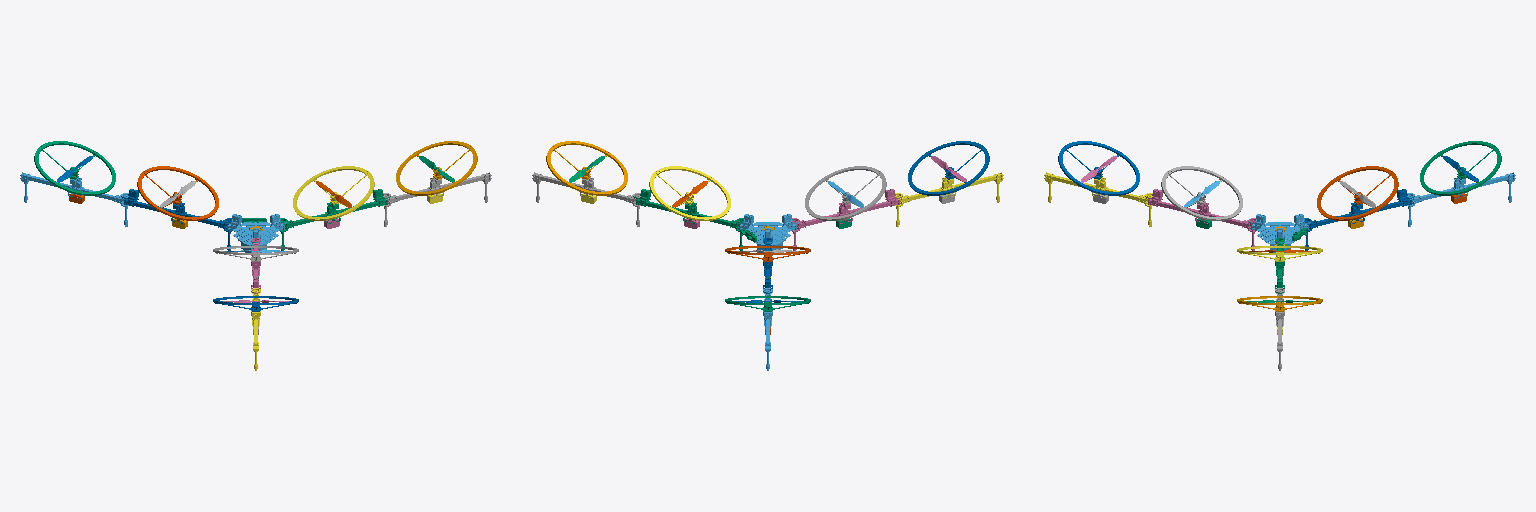
--- Facts derived from the render (not from the file) ---
3 views of the same robot in one strip: view 1: azimuth 30°, elevation 25°; view 2: azimuth 150°, elevation 25°; view 3: azimuth 270°, elevation 25° (orthographic).
Model hydrus_xi with 36 links and 35 joints (6 revolute, 12 continuous, 17 fixed), rooted at root, posed all joints at 0.
Visible links, largest first — view 1: center_link, gimbal_link3, gimbal_link2, gimbal_link1, gimbal_link4, link1, link3, link4, link2, gimbal_link6, gimbal_link5; view 2: center_link, gimbal_link1, gimbal_link6, gimbal_link5, gimbal_link2, link5, link1, link2, link6, gimbal_link4, gimbal_link3; view 3: center_link, gimbal_link5, gimbal_link4, gimbal_link3, gimbal_link6, link5, link3, link6, link4, gimbal_link2, gimbal_link1.
Link boxes in pixels (left/top/right/bottom): center_link: left=224, top=214, right=287, bottom=243; gimbal_link3: left=137, top=166, right=218, bottom=220; gimbal_link2: left=396, top=141, right=477, bottom=195; gimbal_link1: left=293, top=166, right=374, bottom=220; gimbal_link4: left=34, top=141, right=115, bottom=195; link1: left=280, top=189, right=390, bottom=250; link3: left=121, top=189, right=231, bottom=250; link4: left=20, top=172, right=128, bottom=226; link2: left=383, top=172, right=491, bottom=226; gimbal_link6: left=213, top=296, right=298, bottom=311; gimbal_link5: left=213, top=246, right=298, bottom=261; center_link: left=736, top=214, right=799, bottom=243; gimbal_link1: left=649, top=166, right=730, bottom=220; gimbal_link6: left=908, top=141, right=989, bottom=195; gimbal_link5: left=805, top=166, right=886, bottom=220; gimbal_link2: left=546, top=141, right=627, bottom=195; link5: left=792, top=189, right=902, bottom=250; link1: left=633, top=189, right=743, bottom=250; link2: left=532, top=172, right=640, bottom=226; link6: left=895, top=172, right=1003, bottom=226; gimbal_link4: left=725, top=296, right=810, bottom=311; gimbal_link3: left=725, top=246, right=810, bottom=261; center_link: left=1248, top=214, right=1311, bottom=243; gimbal_link5: left=1161, top=166, right=1242, bottom=220; gimbal_link4: left=1420, top=141, right=1501, bottom=195; gimbal_link3: left=1317, top=166, right=1398, bottom=220; gimbal_link6: left=1058, top=141, right=1139, bottom=195; link5: left=1145, top=189, right=1255, bottom=250; link3: left=1304, top=189, right=1414, bottom=250; link6: left=1044, top=172, right=1152, bottom=226; link4: left=1407, top=172, right=1515, bottom=226; gimbal_link2: left=1237, top=296, right=1322, bottom=311; gimbal_link1: left=1237, top=246, right=1322, bottom=261.
Bounding box of the posed robot: 2.1 × 2.37 × 0.3348 m (x, y, z).
29 mesh visuals loaded from 11 distinct referenced files (11 binary STL).

robot.urdf — hydrus_xi:
<?xml version="1.0" ?>
<robot name="hydrus_xi">
  <baselink name="fc"/>
  <thrust_link name="thrust"/>
  <m_f_rate value="-0.0182"/>
    #### dummy root link for KDL ####
  <link name="root">
    <inertial>
      <origin rpy="0 0 0" xyz="0 0 0"/>
      <mass value="0.00001"/>
      <inertia ixx="0.000001" ixy="0.0" ixz="0.0" iyy="0.000001" iyz="0.0" izz="0.000001"/>
    </inertial>
  </link>
  <joint name="root_joint" type="fixed">
    <parent link="root"/>
    <child link="center_link"/>
    <origin rpy="0 0 0" xyz="0 0 0"/>
    <axis xyz="0 0 1"/>
  </joint>
    #### link ####
  <link name="center_link">
    <inertial>
      <origin rpy="0 0 0" xyz="-0.000001 0.000000 0.031426"/>
      <mass value="0.970304"/>
      <inertia ixx="0.011445" ixy="-0.000000" ixz="-0.000000" iyy="0.011444" iyz="0.000000" izz="0.021712"/>
    </inertial>
    <visual>
      <origin rpy="0 0 0" xyz="0 0 0"/>
      <geometry>
        <mesh filename="center_link.stl"/>
      </geometry>
    </visual>
    <collision name="center_link">
      <origin rpy="0 0 0" xyz="0 0 0"/>
      <geometry>
        <mesh filename="center_link.stl"/>
      </geometry>
    </collision>
  </link>
  <gazebo reference="center_link">
    <dampingFactor>0.00</dampingFactor>
  </gazebo>
    #### joints ####
    #### link joint ####
  <joint name="joint1" type="revolute">
    <limit effort="6.6" lower="-1.57" upper="1.57" velocity="3.0"/>
    <parent link="center_link"/>
    <child link="link1"/>
    <origin rpy="0 0 0" xyz="0.1555 0.0 0.015"/>
    <axis xyz="0 0 1"/>
    <dynamics damping="0.8" friction="0.0"/>
  </joint>
  <joint name="joint3" type="revolute">
    <limit effort="6.6" lower="-1.57" upper="1.57" velocity="3.0"/>
    <parent link="center_link"/>
    <child link="link3"/>
    <origin rpy="0 0 2.0943951023931953" xyz="-0.07775 0.13467 0.015"/>
    <axis xyz="0 0 1"/>
    <dynamics damping="0.8" friction="0.0"/>
  </joint>
  <joint name="joint5" type="revolute">
    <limit effort="6.6" lower="-1.57" upper="1.57" velocity="3.0"/>
    <parent link="center_link"/>
    <child link="link5"/>
    <origin rpy="0 0 4.1887902047863905" xyz="-0.07775 -0.13467 0.015"/>
    <axis xyz="0 0 1"/>
    <dynamics damping="0.8" friction="0.0"/>
  </joint>
    #### hardware interface ####
  <gazebo reference="linkcenter_link">
    <mu1>0.1</mu1>
    <mu2>0.1</mu2>
  </gazebo>
    #### link ####
  <link name="link1">
    <inertial>
      <origin rpy="0 0 0" xyz="0.313051 0.000071 0.011024"/>
      <mass value="0.535052"/>
      <inertia ixx="0.000808" ixy="0.000030" ixz="0.005073" iyy="0.014148" iyz="0.000002" izz="0.013428"/>
    </inertial>
    <visual>
      <origin rpy="0 0 3.141592653589793" xyz="0.6 0 0"/>
      <geometry>
        <mesh filename="middle_link.stl"/>
      </geometry>
    </visual>
    <collision name="link1">
      <origin rpy="0 0 3.141592653589793" xyz="0.6 0 0"/>
      <geometry>
        <mesh filename="middle_link.stl"/>
      </geometry>
    </collision>
  </link>
    #### link1 ####
  <gazebo reference="link1">
    <dampingFactor>0.00</dampingFactor>
  </gazebo>
    #### gimbal link ####
  <link name="gimbal_link1">
    <inertial>
      <origin rpy="0 0 0" xyz="-0.010664 0.000000 0.049923"/>
      <mass value="0.237140"/>
      <inertia ixx="0.004029" ixy="-0.000000" ixz="-0.001310" iyy="0.003369" iyz="0.000000" izz="0.006515"/>
    </inertial>
    <visual>
      <origin rpy="0 0 0" xyz="0 0 0"/>
      <geometry>
        <mesh filename="propeller_link.stl"/>
      </geometry>
    </visual>
    <collision name="gimbal_link1">
      <origin rpy="0 0 0" xyz="0 0 0"/>
      <geometry>
        <mesh filename="propeller_link.stl"/>
      </geometry>
    </collision>
  </link>
  <gazebo reference="gimbal_link1">
    <dampingFactor>0.00</dampingFactor>
  </gazebo>
    #### rotor parent link (virtual) ####
  <link name="rotor_parent1">
    <inertial>
      <origin rpy="0 0 0" xyz="0 0 0"/>
      <mass value="0.00001"/>
      <inertia ixx="0.000001" ixy="0.0" ixz="0.0" iyy="0.000001" iyz="0.0" izz="0.000001"/>
    </inertial>
  </link>
    #### thrust link (virtual) ####
  <link name="thrust1">
    <inertial>
      <origin rpy="0 0 0" xyz="0 0 0"/>
      <mass value="0.02"/>
      <inertia ixx="1.5841999999999998e-06" ixy="0.0" ixz="0.0" iyy="1.5841999999999998e-06" iyz="0.0" izz="3.1683999999999996e-06"/>
    </inertial>
    <visual>
      <origin rpy="0 0 0" xyz="0 0 0"/>
      <geometry>
        <mesh filename="T-motor-CF-14inch-CCW.stl"/>
      </geometry>
    </visual>
    <collision name="thrust1">
      <origin rpy="0 0 0" xyz="0 0 0"/>
      <geometry>
        <mesh filename="T-motor-CF-14inch-CCW.stl"/>
      </geometry>
    </collision>
  </link>
  <gazebo reference="thrust1">
    <dampingFactor>0.00</dampingFactor>
  </gazebo>
    #### joints ####
    #### link joint ####
  <joint name="joint2" type="revolute">
    <limit effort="6.6" lower="-1.5707963267948966" upper="1.5707963267948966" velocity="3.0"/>
    <parent link="link1"/>
    <child link="link2"/>
    <origin rpy="0 0 0" xyz="0.6 0 0"/>
    <axis xyz="0 0 1"/>
    <dynamics damping="0.8" friction="0.0"/>
  </joint>
    #### gimbal joint ####
  <joint name="gimbal1" type="continuous">
    <limit effort="3.1" lower="-18.84955592153876" upper="18.84955592153876" velocity="20.0"/>
    <parent link="link1"/>
    <child link="gimbal_link1"/>
    <origin rpy="0 0 3.141592653589793" xyz="0.2984 0 0.04867"/>
    <axis xyz="0 0 1"/>
    <dynamics damping="0.8" friction="0.0"/>
  </joint>
    #### rotor parent link joint (virtual) ####
  <joint name="rotor_parent_link_joint1" type="fixed">
    <parent link="gimbal_link1"/>
    <child link="rotor_parent1"/>
    <origin rpy="0 0.34906585039 0" xyz="0 0 0.06041"/>
    <axis xyz="0 0 1"/>
  </joint>
    #### rotor joint (virtual) ####
  <joint name="rotor1" type="continuous">
    <limit effort="100.0" lower="1" upper="35.5" velocity="0.5"/>
    <parent link="rotor_parent1"/>
    <child link="thrust1"/>
    <origin rpy="0 0 0" xyz="0 0 0"/>
    <axis xyz="0 0 1"/>
  </joint>
    #### battery ####
  <joint name="link12bat1" type="fixed">
    <parent link="link1"/>
    <child link="bat1"/>
    <origin rpy="0 0 1.5707963267948966" xyz="0.2867 0.0 -0.048"/>
  </joint>
  <link name="bat1">
    <inertial>
      <origin rpy="0 0 0" xyz="0 0 0"/>
      <mass value="0.193"/>
      <inertia ixx="0.00001" ixy="0.0" ixz="0.0" iyy="0.00001" iyz="0.0" izz="0.00002"/>
    </inertial>
    <visual>
      <geometry>
        <mesh filename="battery.stl"/>
      </geometry>
    </visual>
    <collision name="bat1">
      <geometry>
        <mesh filename="battery.stl"/>
      </geometry>
    </collision>
  </link>
    #### hardware interface ####
  <gazebo reference="link1">
    <mu1>0.1</mu1>
    <mu2>0.1</mu2>
  </gazebo>
    #### link ####
  <link name="link2">
    <inertial>
      <origin rpy="0 0 0" xyz="0.272827 0.000033 -0.006011"/>
      <mass value="0.455151"/>
      <inertia ixx="0.001020" ixy="0.000009" ixz="-0.002418" iyy="0.009477" iyz="0.000000" izz="0.008530"/>
    </inertial>
    <visual>
      <origin rpy="0 0 3.141592653589793" xyz="0.6 0 0"/>
      <geometry>
        <mesh filename="end_link1.stl"/>
      </geometry>
    </visual>
    <collision name="link2">
      <origin rpy="0 0 3.141592653589793" xyz="0.6 0 0"/>
      <geometry>
        <mesh filename="end_link1.stl"/>
      </geometry>
    </collision>
  </link>
    #### link2 ####
  <gazebo reference="link2">
    <dampingFactor>0.00</dampingFactor>
  </gazebo>
    #### gimbal link ####
  <link name="gimbal_link2">
    <inertial>
      <origin rpy="0 0 0" xyz="-0.010664 0.000000 0.049923"/>
      <mass value="0.237140"/>
      <inertia ixx="0.004029" ixy="-0.000000" ixz="-0.001310" iyy="0.003369" iyz="0.000000" izz="0.006515"/>
    </inertial>
    <visual>
      <origin rpy="0 0 0" xyz="0 0 0"/>
      <geometry>
        <mesh filename="propeller_link.stl"/>
      </geometry>
    </visual>
    <collision name="gimbal_link2">
      <origin rpy="0 0 0" xyz="0 0 0"/>
      <geometry>
        <mesh filename="propeller_link.stl"/>
      </geometry>
    </collision>
  </link>
  <gazebo reference="gimbal_link2">
    <dampingFactor>0.00</dampingFactor>
  </gazebo>
    #### rotor parent link (virtual) ####
  <link name="rotor_parent2">
    <inertial>
      <origin rpy="0 0 0" xyz="0 0 0"/>
      <mass value="0.00001"/>
      <inertia ixx="0.000001" ixy="0.0" ixz="0.0" iyy="0.000001" iyz="0.0" izz="0.000001"/>
    </inertial>
  </link>
    #### thrust link (virtual) ####
  <link name="thrust2">
    <inertial>
      <origin rpy="0 0 0" xyz="0 0 0"/>
      <mass value="0.02"/>
      <inertia ixx="1.5841999999999998e-06" ixy="0.0" ixz="0.0" iyy="1.5841999999999998e-06" iyz="0.0" izz="3.1683999999999996e-06"/>
    </inertial>
    <visual>
      <origin rpy="0 0 0" xyz="0 0 0"/>
      <geometry>
        <mesh filename="T-motor-CF-14inch-CW.stl"/>
      </geometry>
    </visual>
    <collision name="thrust2">
      <origin rpy="0 0 0" xyz="0 0 0"/>
      <geometry>
        <mesh filename="T-motor-CF-14inch-CW.stl"/>
      </geometry>
    </collision>
  </link>
  <gazebo reference="thrust2">
    <dampingFactor>0.00</dampingFactor>
  </gazebo>
    #### joints ####
    #### link joint ####
    #### gimbal joint ####
  <joint name="gimbal2" type="continuous">
    <limit effort="3.1" lower="-18.84955592153876" upper="18.84955592153876" velocity="20.0"/>
    <parent link="link2"/>
    <child link="gimbal_link2"/>
    <origin rpy="0 0 3.141592653589793" xyz="0.2984 0 0.04867"/>
    <axis xyz="0 0 1"/>
    <dynamics damping="0.8" friction="0.0"/>
  </joint>
    #### rotor parent link joint (virtual) ####
  <joint name="rotor_parent_link_joint2" type="fixed">
    <parent link="gimbal_link2"/>
    <child link="rotor_parent2"/>
    <origin rpy="0 0.34906585039 0" xyz="0 0 0.06041"/>
    <axis xyz="0 0 -1"/>
  </joint>
    #### rotor joint (virtual) ####
  <joint name="rotor2" type="continuous">
    <limit effort="100.0" lower="1" upper="35.5" velocity="0.5"/>
    <parent link="rotor_parent2"/>
    <child link="thrust2"/>
    <origin rpy="0 0 0" xyz="0 0 0"/>
    <axis xyz="0 0 -1"/>
  </joint>
    #### battery ####
  <joint name="link22bat2" type="fixed">
    <parent link="link2"/>
    <child link="bat2"/>
    <origin rpy="0 0 1.5707963267948966" xyz="0.2867 0.0 -0.048"/>
  </joint>
  <link name="bat2">
    <inertial>
      <origin rpy="0 0 0" xyz="0 0 0"/>
      <mass value="0.193"/>
      <inertia ixx="0.00001" ixy="0.0" ixz="0.0" iyy="0.00001" iyz="0.0" izz="0.00002"/>
    </inertial>
    <visual>
      <geometry>
        <mesh filename="battery.stl"/>
      </geometry>
    </visual>
    <collision name="bat2">
      <geometry>
        <mesh filename="battery.stl"/>
      </geometry>
    </collision>
  </link>
    #### hardware interface ####
  <gazebo reference="link2">
    <mu1>0.1</mu1>
    <mu2>0.1</mu2>
  </gazebo>
    #### link ####
  <link name="link3">
    <inertial>
      <origin rpy="0 0 0" xyz="0.313051 0.000071 0.011024"/>
      <mass value="0.535052"/>
      <inertia ixx="0.000808" ixy="0.000030" ixz="0.005073" iyy="0.014148" iyz="0.000002" izz="0.013428"/>
    </inertial>
    <visual>
      <origin rpy="0 0 3.141592653589793" xyz="0.6 0 0"/>
      <geometry>
        <mesh filename="middle_link.stl"/>
      </geometry>
    </visual>
    <collision name="link3">
      <origin rpy="0 0 3.141592653589793" xyz="0.6 0 0"/>
      <geometry>
        <mesh filename="middle_link.stl"/>
      </geometry>
    </collision>
  </link>
    #### link3 ####
  <gazebo reference="link3">
    <dampingFactor>0.00</dampingFactor>
  </gazebo>
    #### gimbal link ####
  <link name="gimbal_link3">
    <inertial>
      <origin rpy="0 0 0" xyz="-0.010664 0.000000 0.049923"/>
      <mass value="0.237140"/>
      <inertia ixx="0.004029" ixy="-0.000000" ixz="-0.001310" iyy="0.003369" iyz="0.000000" izz="0.006515"/>
    </inertial>
    <visual>
      <origin rpy="0 0 0" xyz="0 0 0"/>
      <geometry>
        <mesh filename="propeller_link.stl"/>
      </geometry>
    </visual>
    <collision name="gimbal_link3">
      <origin rpy="0 0 0" xyz="0 0 0"/>
      <geometry>
        <mesh filename="propeller_link.stl"/>
      </geometry>
    </collision>
  </link>
  <gazebo reference="gimbal_link3">
    <dampingFactor>0.00</dampingFactor>
  </gazebo>
    #### rotor parent link (virtual) ####
  <link name="rotor_parent3">
    <inertial>
      <origin rpy="0 0 0" xyz="0 0 0"/>
      <mass value="0.00001"/>
      <inertia ixx="0.000001" ixy="0.0" ixz="0.0" iyy="0.000001" iyz="0.0" izz="0.000001"/>
    </inertial>
  </link>
    #### thrust link (virtual) ####
  <link name="thrust3">
    <inertial>
      <origin rpy="0 0 0" xyz="0 0 0"/>
      <mass value="0.02"/>
      <inertia ixx="1.5841999999999998e-06" ixy="0.0" ixz="0.0" iyy="1.5841999999999998e-06" iyz="0.0" izz="3.1683999999999996e-06"/>
    </inertial>
    <visual>
      <origin rpy="0 0 0" xyz="0 0 0"/>
      <geometry>
        <mesh filename="T-motor-CF-14inch-CCW.stl"/>
      </geometry>
    </visual>
    <collision name="thrust3">
      <origin rpy="0 0 0" xyz="0 0 0"/>
      <geometry>
        <mesh filename="T-motor-CF-14inch-CCW.stl"/>
      </geometry>
    </collision>
  </link>
  <gazebo reference="thrust3">
    <dampingFactor>0.00</dampingFactor>
  </gazebo>
    #### joints ####
    #### link joint ####
  <joint name="joint4" type="revolute">
    <limit effort="6.6" lower="-1.5707963267948966" upper="1.5707963267948966" velocity="3.0"/>
    <parent link="link3"/>
    <child link="link4"/>
    <origin rpy="0 0 0" xyz="0.6 0 0"/>
    <axis xyz="0 0 1"/>
    <dynamics damping="0.8" friction="0.0"/>
  </joint>
    #### gimbal joint ####
  <joint name="gimbal3" type="continuous">
    <limit effort="3.1" lower="-18.84955592153876" upper="18.84955592153876" velocity="20.0"/>
    <parent link="link3"/>
    <child link="gimbal_link3"/>
    <origin rpy="0 0 3.141592653589793" xyz="0.2984 0 0.04867"/>
    <axis xyz="0 0 1"/>
    <dynamics damping="0.8" friction="0.0"/>
  </joint>
    #### rotor parent link joint (virtual) ####
  <joint name="rotor_parent_link_joint3" type="fixed">
    <parent link="gimbal_link3"/>
    <child link="rotor_parent3"/>
    <origin rpy="0 0.34906585039 0" xyz="0 0 0.06041"/>
    <axis xyz="0 0 1"/>
  </joint>
    #### rotor joint (virtual) ####
  <joint name="rotor3" type="continuous">
    <limit effort="100.0" lower="1" upper="35.5" velocity="0.5"/>
    <parent link="rotor_parent3"/>
    <child link="thrust3"/>
    <origin rpy="0 0 0" xyz="0 0 0"/>
    <axis xyz="0 0 1"/>
  </joint>
    #### battery ####
  <joint name="link32bat3" type="fixed">
    <parent link="link3"/>
    <child link="bat3"/>
    <origin rpy="0 0 1.5707963267948966" xyz="0.2867 0.0 -0.048"/>
  </joint>
  <link name="bat3">
    <inertial>
      <origin rpy="0 0 0" xyz="0 0 0"/>
      <mass value="0.193"/>
      <inertia ixx="0.00001" ixy="0.0" ixz="0.0" iyy="0.00001" iyz="0.0" izz="0.00002"/>
    </inertial>
    <visual>
      <geometry>
        <mesh filename="battery.stl"/>
      </geometry>
    </visual>
    <collision name="bat3">
      <geometry>
        <mesh filename="battery.stl"/>
      </geometry>
    </collision>
  </link>
    #### hardware interface ####
  <gazebo reference="link3">
    <mu1>0.1</mu1>
    <mu2>0.1</mu2>
  </gazebo>
    #### link ####
  <link name="link4">
    <inertial>
      <origin rpy="0 0 0" xyz="0.272827 0.000033 -0.006011"/>
      <mass value="0.455151"/>
      <inertia ixx="0.001020" ixy="0.000009" ixz="-0.002418" iyy="0.009477" iyz="0.000000" izz="0.008530"/>
    </inertial>
    <visual>
      <origin rpy="0 0 3.141592653589793" xyz="0.6 0 0"/>
      <geometry>
        <mesh filename="end_link1.stl"/>
      </geometry>
    </visual>
    <collision name="link4">
      <origin rpy="0 0 3.141592653589793" xyz="0.6 0 0"/>
      <geometry>
        <mesh filename="end_link1.stl"/>
      </geometry>
    </collision>
  </link>
    #### link4 ####
  <gazebo reference="link4">
    <dampingFactor>0.00</dampingFactor>
  </gazebo>
    #### gimbal link ####
  <link name="gimbal_link4">
    <inertial>
      <origin rpy="0 0 0" xyz="-0.010664 0.000000 0.049923"/>
      <mass value="0.237140"/>
      <inertia ixx="0.004029" ixy="-0.000000" ixz="-0.001310" iyy="0.003369" iyz="0.000000" izz="0.006515"/>
    </inertial>
    <visual>
      <origin rpy="0 0 0" xyz="0 0 0"/>
      <geometry>
        <mesh filename="propeller_link.stl"/>
      </geometry>
    </visual>
    <collision name="gimbal_link4">
      <origin rpy="0 0 0" xyz="0 0 0"/>
      <geometry>
        <mesh filename="propeller_link.stl"/>
      </geometry>
    </collision>
  </link>
  <gazebo reference="gimbal_link4">
    <dampingFactor>0.00</dampingFactor>
  </gazebo>
    #### rotor parent link (virtual) ####
  <link name="rotor_parent4">
    <inertial>
      <origin rpy="0 0 0" xyz="0 0 0"/>
      <mass value="0.00001"/>
      <inertia ixx="0.000001" ixy="0.0" ixz="0.0" iyy="0.000001" iyz="0.0" izz="0.000001"/>
    </inertial>
  </link>
    #### thrust link (virtual) ####
  <link name="thrust4">
    <inertial>
      <origin rpy="0 0 0" xyz="0 0 0"/>
      <mass value="0.02"/>
      <inertia ixx="1.5841999999999998e-06" ixy="0.0" ixz="0.0" iyy="1.5841999999999998e-06" iyz="0.0" izz="3.1683999999999996e-06"/>
    </inertial>
    <visual>
      <origin rpy="0 0 0" xyz="0 0 0"/>
      <geometry>
        <mesh filename="T-motor-CF-14inch-CW.stl"/>
      </geometry>
    </visual>
    <collision name="thrust4">
      <origin rpy="0 0 0" xyz="0 0 0"/>
      <geometry>
        <mesh filename="T-motor-CF-14inch-CW.stl"/>
      </geometry>
    </collision>
  </link>
  <gazebo reference="thrust4">
    <dampingFactor>0.00</dampingFactor>
  </gazebo>
    #### joints ####
    #### link joint ####
    #### gimbal joint ####
  <joint name="gimbal4" type="continuous">
    <limit effort="3.1" lower="-18.84955592153876" upper="18.84955592153876" velocity="20.0"/>
    <parent link="link4"/>
    <child link="gimbal_link4"/>
    <origin rpy="0 0 3.141592653589793" xyz="0.2984 0 0.04867"/>
    <axis xyz="0 0 1"/>
    <dynamics damping="0.8" friction="0.0"/>
  </joint>
    #### rotor parent link joint (virtual) ####
  <joint name="rotor_parent_link_joint4" type="fixed">
    <parent link="gimbal_link4"/>
    <child link="rotor_parent4"/>
    <origin rpy="0 0.34906585039 0" xyz="0 0 0.06041"/>
    <axis xyz="0 0 -1"/>
  </joint>
    #### rotor joint (virtual) ####
  <joint name="rotor4" type="continuous">
    <limit effort="100.0" lower="1" upper="35.5" velocity="0.5"/>
    <parent link="rotor_parent4"/>
    <child link="thrust4"/>
    <origin rpy="0 0 0" xyz="0 0 0"/>
    <axis xyz="0 0 -1"/>
  </joint>
    #### battery ####
  <joint name="link42bat4" type="fixed">
    <parent link="link4"/>
    <child link="bat4"/>
    <origin rpy="0 0 1.5707963267948966" xyz="0.2867 0.0 -0.048"/>
  </joint>
  <link name="bat4">
    <inertial>
      <origin rpy="0 0 0" xyz="0 0 0"/>
      <mass value="0.193"/>
      <inertia ixx="0.00001" ixy="0.0" ixz="0.0" iyy="0.00001" iyz="0.0" izz="0.00002"/>
    </inertial>
    <visual>
      <geometry>
        <mesh filename="battery.stl"/>
      </geometry>
    </visual>
    <collision name="bat4">
      <geometry>
        <mesh filename="battery.stl"/>
      </geometry>
    </collision>
  </link>
    #### hardware interface ####
  <gazebo reference="link4">
    <mu1>0.1</mu1>
    <mu2>0.1</mu2>
  </gazebo>
    #### link ####
  <link name="link5">
    <inertial>
      <origin rpy="0 0 0" xyz="0.313051 0.000071 0.011024"/>
      <mass value="0.535052"/>
      <inertia ixx="0.000808" ixy="0.000030" ixz="0.005073" iyy="0.014148" iyz="0.000002" izz="0.013428"/>
    </inertial>
    <visual>
      <origin rpy="0 0 3.141592653589793" xyz="0.6 0 0"/>
      <geometry>
        <mesh filename="middle_link.stl"/>
      </geometry>
    </visual>
    <collision name="link5">
      <origin rpy="0 0 3.141592653589793" xyz="0.6 0 0"/>
      <geometry>
        <mesh filename="middle_link.stl"/>
      </geometry>
    </collision>
  </link>
    #### link5 ####
  <gazebo reference="link5">
    <dampingFactor>0.00</dampingFactor>
  </gazebo>
    #### gimbal link ####
  <link name="gimbal_link5">
    <inertial>
      <origin rpy="0 0 0" xyz="-0.010664 0.000000 0.049923"/>
      <mass value="0.237140"/>
      <inertia ixx="0.004029" ixy="-0.000000" ixz="-0.001310" iyy="0.003369" iyz="0.000000" izz="0.006515"/>
    </inertial>
    <visual>
      <origin rpy="0 0 0" xyz="0 0 0"/>
      <geometry>
        <mesh filename="propeller_link.stl"/>
      </geometry>
    </visual>
    <collision name="gimbal_link5">
      <origin rpy="0 0 0" xyz="0 0 0"/>
      <geometry>
        <mesh filename="propeller_link.stl"/>
      </geometry>
    </collision>
  </link>
  <gazebo reference="gimbal_link5">
    <dampingFactor>0.00</dampingFactor>
  </gazebo>
    #### rotor parent link (virtual) ####
  <link name="rotor_parent5">
    <inertial>
      <origin rpy="0 0 0" xyz="0 0 0"/>
      <mass value="0.00001"/>
      <inertia ixx="0.000001" ixy="0.0" ixz="0.0" iyy="0.000001" iyz="0.0" izz="0.000001"/>
    </inertial>
  </link>
    #### thrust link (virtual) ####
  <link name="thrust5">
    <inertial>
      <origin rpy="0 0 0" xyz="0 0 0"/>
      <mass value="0.02"/>
      <inertia ixx="1.5841999999999998e-06" ixy="0.0" ixz="0.0" iyy="1.5841999999999998e-06" iyz="0.0" izz="3.1683999999999996e-06"/>
    </inertial>
    <visual>
      <origin rpy="0 0 0" xyz="0 0 0"/>
      <geometry>
        <mesh filename="T-motor-CF-14inch-CCW.stl"/>
      </geometry>
    </visual>
    <collision name="thrust5">
      <origin rpy="0 0 0" xyz="0 0 0"/>
      <geometry>
        <mesh filename="T-motor-CF-14inch-CCW.stl"/>
      </geometry>
    </collision>
  </link>
  <gazebo reference="thrust5">
    <dampingFactor>0.00</dampingFactor>
  </gazebo>
    #### joints ####
    #### link joint ####
  <joint name="joint6" type="revolute">
    <limit effort="6.6" lower="-1.5707963267948966" upper="1.5707963267948966" velocity="3.0"/>
    <parent link="link5"/>
    <child link="link6"/>
    <origin rpy="0 0 0" xyz="0.6 0 0"/>
    <axis xyz="0 0 1"/>
    <dynamics damping="0.8" friction="0.0"/>
  </joint>
    #### gimbal joint ####
  <joint name="gimbal5" type="continuous">
    <limit effort="3.1" lower="-18.84955592153876" upper="18.84955592153876" velocity="20.0"/>
    <parent link="link5"/>
    <child link="gimbal_link5"/>
    <origin rpy="0 0 3.141592653589793" xyz="0.2984 0 0.04867"/>
    <axis xyz="0 0 1"/>
    <dynamics damping="0.8" friction="0.0"/>
  </joint>
    #### rotor parent link joint (virtual) ####
  <joint name="rotor_parent_link_joint5" type="fixed">
    <parent link="gimbal_link5"/>
    <child link="rotor_parent5"/>
    <origin rpy="0 0.34906585039 0" xyz="0 0 0.06041"/>
    <axis xyz="0 0 1"/>
  </joint>
    #### rotor joint (virtual) ####
  <joint name="rotor5" type="continuous">
    <limit effort="100.0" lower="1" upper="35.5" velocity="0.5"/>
    <parent link="rotor_parent5"/>
    <child link="thrust5"/>
    <origin rpy="0 0 0" xyz="0 0 0"/>
    <axis xyz="0 0 1"/>
  </joint>
    #### battery ####
  <joint name="link52bat5" type="fixed">
    <parent link="link5"/>
    <child link="bat5"/>
    <origin rpy="0 0 1.5707963267948966" xyz="0.2867 0.0 -0.048"/>
  </joint>
  <link name="bat5">
    <inertial>
      <origin rpy="0 0 0" xyz="0 0 0"/>
      <mass value="0.193"/>
      <inertia ixx="0.00001" ixy="0.0" ixz="0.0" iyy="0.00001" iyz="0.0" izz="0.00002"/>
    </inertial>
    <visual>
      <geometry>
        <mesh filename="battery.stl"/>
      </geometry>
    </visual>
    <collision name="bat5">
      <geometry>
        <mesh filename="battery.stl"/>
      </geometry>
    </collision>
  </link>
    #### hardware interface ####
  <gazebo reference="link5">
    <mu1>0.1</mu1>
    <mu2>0.1</mu2>
  </gazebo>
    #### link ####
  <link name="link6">
    <inertial>
      <origin rpy="0 0 0" xyz="0.272827 0.000033 -0.006011"/>
      <mass value="0.455151"/>
      <inertia ixx="0.001020" ixy="0.000009" ixz="-0.002418" iyy="0.009477" iyz="0.000000" izz="0.008530"/>
    </inertial>
    <visual>
      <origin rpy="0 0 3.141592653589793" xyz="0.6 0 0"/>
      <geometry>
        <mesh filename="end_link1.stl"/>
      </geometry>
    </visual>
    <collision name="link6">
      <origin rpy="0 0 3.141592653589793" xyz="0.6 0 0"/>
      <geometry>
        <mesh filename="end_link1.stl"/>
      </geometry>
    </collision>
  </link>
    #### link6 ####
  <gazebo reference="link6">
    <dampingFactor>0.00</dampingFactor>
  </gazebo>
    #### gimbal link ####
  <link name="gimbal_link6">
    <inertial>
      <origin rpy="0 0 0" xyz="-0.010664 0.000000 0.049923"/>
      <mass value="0.237140"/>
      <inertia ixx="0.004029" ixy="-0.000000" ixz="-0.001310" iyy="0.003369" iyz="0.000000" izz="0.006515"/>
    </inertial>
    <visual>
      <origin rpy="0 0 0" xyz="0 0 0"/>
      <geometry>
        <mesh filename="propeller_link.stl"/>
      </geometry>
    </visual>
    <collision name="gimbal_link6">
      <origin rpy="0 0 0" xyz="0 0 0"/>
      <geometry>
        <mesh filename="propeller_link.stl"/>
      </geometry>
    </collision>
  </link>
  <gazebo reference="gimbal_link6">
    <dampingFactor>0.00</dampingFactor>
  </gazebo>
    #### rotor parent link (virtual) ####
  <link name="rotor_parent6">
    <inertial>
      <origin rpy="0 0 0" xyz="0 0 0"/>
      <mass value="0.00001"/>
      <inertia ixx="0.000001" ixy="0.0" ixz="0.0" iyy="0.000001" iyz="0.0" izz="0.000001"/>
    </inertial>
  </link>
    #### thrust link (virtual) ####
  <link name="thrust6">
    <inertial>
      <origin rpy="0 0 0" xyz="0 0 0"/>
      <mass value="0.02"/>
      <inertia ixx="1.5841999999999998e-06" ixy="0.0" ixz="0.0" iyy="1.5841999999999998e-06" iyz="0.0" izz="3.1683999999999996e-06"/>
    </inertial>
    <visual>
      <origin rpy="0 0 0" xyz="0 0 0"/>
      <geometry>
        <mesh filename="T-motor-CF-14inch-CW.stl"/>
      </geometry>
    </visual>
    <collision name="thrust6">
      <origin rpy="0 0 0" xyz="0 0 0"/>
      <geometry>
        <mesh filename="T-motor-CF-14inch-CW.stl"/>
      </geometry>
    </collision>
  </link>
  <gazebo reference="thrust6">
    <dampingFactor>0.00</dampingFactor>
  </gazebo>
    #### joints ####
    #### link joint ####
    #### gimbal joint ####
  <joint name="gimbal6" type="continuous">
    <limit effort="3.1" lower="-18.84955592153876" upper="18.84955592153876" velocity="20.0"/>
    <parent link="link6"/>
    <child link="gimbal_link6"/>
    <origin rpy="0 0 3.141592653589793" xyz="0.2984 0 0.04867"/>
    <axis xyz="0 0 1"/>
    <dynamics damping="0.8" friction="0.0"/>
  </joint>
    #### rotor parent link joint (virtual) ####
  <joint name="rotor_parent_link_joint6" type="fixed">
    <parent link="gimbal_link6"/>
    <child link="rotor_parent6"/>
    <origin rpy="0 0.34906585039 0" xyz="0 0 0.06041"/>
    <axis xyz="0 0 -1"/>
  </joint>
    #### rotor joint (virtual) ####
  <joint name="rotor6" type="continuous">
    <limit effort="100.0" lower="1" upper="35.5" velocity="0.5"/>
    <parent link="rotor_parent6"/>
    <child link="thrust6"/>
    <origin rpy="0 0 0" xyz="0 0 0"/>
    <axis xyz="0 0 -1"/>
  </joint>
    #### battery ####
  <joint name="link62bat6" type="fixed">
    <parent link="link6"/>
    <child link="bat6"/>
    <origin rpy="0 0 1.5707963267948966" xyz="0.2867 0.0 -0.048"/>
  </joint>
  <link name="bat6">
    <inertial>
      <origin rpy="0 0 0" xyz="0 0 0"/>
      <mass value="0.193"/>
      <inertia ixx="0.00001" ixy="0.0" ixz="0.0" iyy="0.00001" iyz="0.0" izz="0.00002"/>
    </inertial>
    <visual>
      <geometry>
        <mesh filename="battery.stl"/>
      </geometry>
    </visual>
    <collision name="bat6">
      <geometry>
        <mesh filename="battery.stl"/>
      </geometry>
    </collision>
  </link>
    #### hardware interface ####
  <gazebo reference="link6">
    <mu1>0.1</mu1>
    <mu2>0.1</mu2>
  </gazebo>
  #### flight controller ####
  <joint name="center_link2fc" type="fixed">
    <parent link="center_link"/>
    <child link="fc"/>
    <origin rpy="0 0 0" xyz="-0.0129 -0.0044 0.03933"/>
  </joint>
  <link name="fc">
    <inertial>
      <origin rpy="0 0 0" xyz="0.012999 0.004396 -0.004856"/>
      <mass value="0.009434"/>
      <inertia ixx="0.000004" ixy="0.000001" ixz="-0.000001" iyy="0.000004" iyz="-0.000000" izz="0.000008"/>
    </inertial>
    <visual>
      <geometry>
        <mesh filename="fc3.stl"/>
      </geometry>
    </visual>
    <collision name="fc">
      <geometry>
        <mesh filename="fc3.stl"/>
      </geometry>
    </collision>
  </link>
  <joint name="center_link2pc" type="fixed">
    <parent link="center_link"/>
    <child link="pc"/>
    <origin rpy="0 0 0" xyz="-0.01075 0.0005 -0.0775"/>
  </joint>
  <link name="pc">
    <inertial>
      <origin rpy="0 0 0" xyz="-0.000890 -0.000110 0.028700"/>
      <mass value="0.549000"/>
      <inertia ixx="0.000452" ixy="0.000000" ixz="0.00000" iyy="0.000453" iyz="0.0000000" izz="0.000453"/>
    </inertial>
    <visual>
      <geometry>
        <mesh filename="xavier_2.stl"/>
      </geometry>
    </visual>
    <collision name="pc">
      <geometry>
        <mesh filename="xavier_2.stl"/>
      </geometry>
    </collision>
  </link>
  <joint name="center_link2zed_camera_center" type="fixed">
    <parent link="center_link"/>
    <child link="zed_camera_center"/>
    <origin rpy="0 0 1.0471975511965976" xyz="0.05504 0.09534  0.029"/>
  </joint>
  <link name="zed_camera_center">
    <inertial>
      <origin rpy="0 0 0" xyz="0.000430 0.006110 0.000000"/>
      <mass value="0.090000"/>
      <inertia ixx="0.000117" ixy="0.000000" ixz="0.000000" iyy="0.000010" iyz="0.000000" izz="0.000117"/>
    </inertial>
    <visual>
      <geometry>
        <mesh filename="zed_mini.stl"/>
      </geometry>
    </visual>
    <collision name="zed_camera_center">
      <geometry>
        <mesh filename="zed_mini.stl"/>
      </geometry>
    </collision>
  </link>
  <joint name="center_link2leddarone" type="fixed">
    <parent link="center_link"/>
    <child link="leddarone"/>
    <origin rpy="0 3.141592653589793 -1.5707963267948966" xyz="0.082 0.0 -0.027"/>
  </joint>
  <link name="leddarone">
    <inertial>
      <origin rpy="0 0 0" xyz="0.000000 -0.009700 -0.004610"/>
      <mass value="0.028000"/>
      <inertia ixx="0.000007" ixy="0.000000" ixz="0.000000" iyy="0.000009" iyz="0.000001" izz="0.000007"/>
    </inertial>
    <visual>
      <geometry>
        <mesh filename="leddar_one.stl"/>
      </geometry>
    </visual>
    <collision name="leddarone">
      <geometry>
        <mesh filename="leddar_one.stl"/>
      </geometry>
    </collision>
  </link>
  <mujoco>
    <compiler balanceinertia="true"/>
    <option/>
  </mujoco>
</robot>
